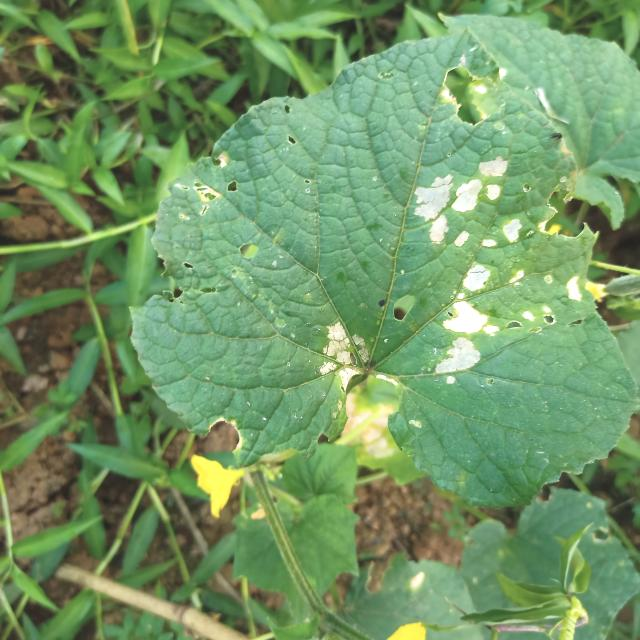disease_cucumber: (430, 255, 596, 390), (406, 145, 539, 254), (292, 314, 378, 409)
